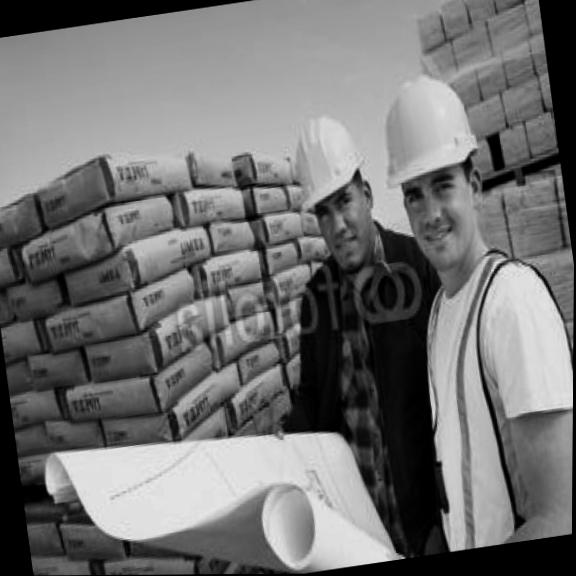no_safety_vest: (278, 223, 457, 571)
safety_vest: (402, 230, 574, 553)
